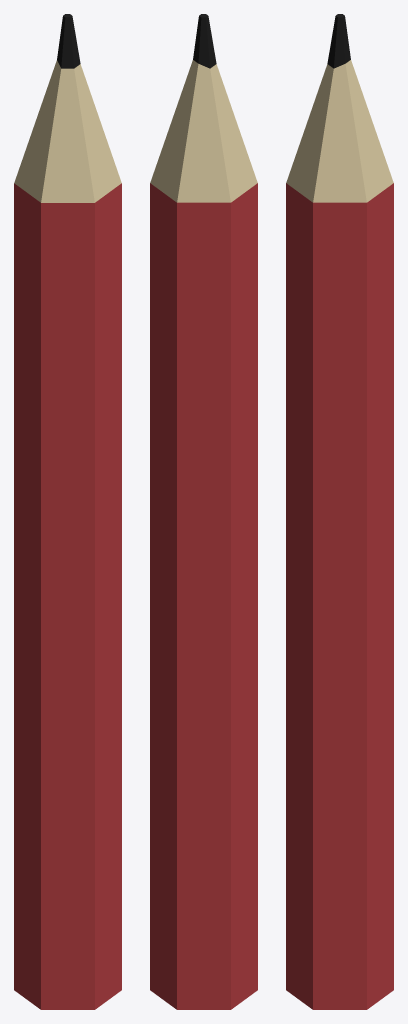
The model's file is PenShort.fbx.
3 renders of one model, left to right at view 1: azimuth 90°, elevation 25°; view 2: azimuth 150°, elevation 25°; view 3: azimuth 270°, elevation 25°, orthographic.
Visible parts, largest first — view 1: PenMid; view 2: PenMid; view 3: PenMid.
Part boxes in pixels (x1,y1,x2,y2): PenMid: (14, 14, 121, 1009); PenMid: (150, 14, 257, 1009); PenMid: (286, 14, 393, 1009).
Bounding box in the file's own units: 1.46 × 16.87 × 1.69.
